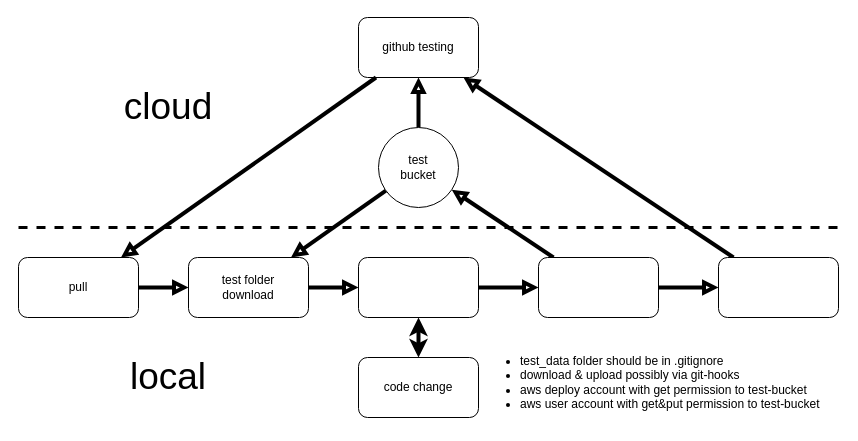
This 858x441 diagram has some shape labels left out. Each missing label, with the centre of its shape:
"local testing" goes at pixel 418 287.
"push" goes at pixel 778 287.
"test folder upload" goes at pixel 598 287.
